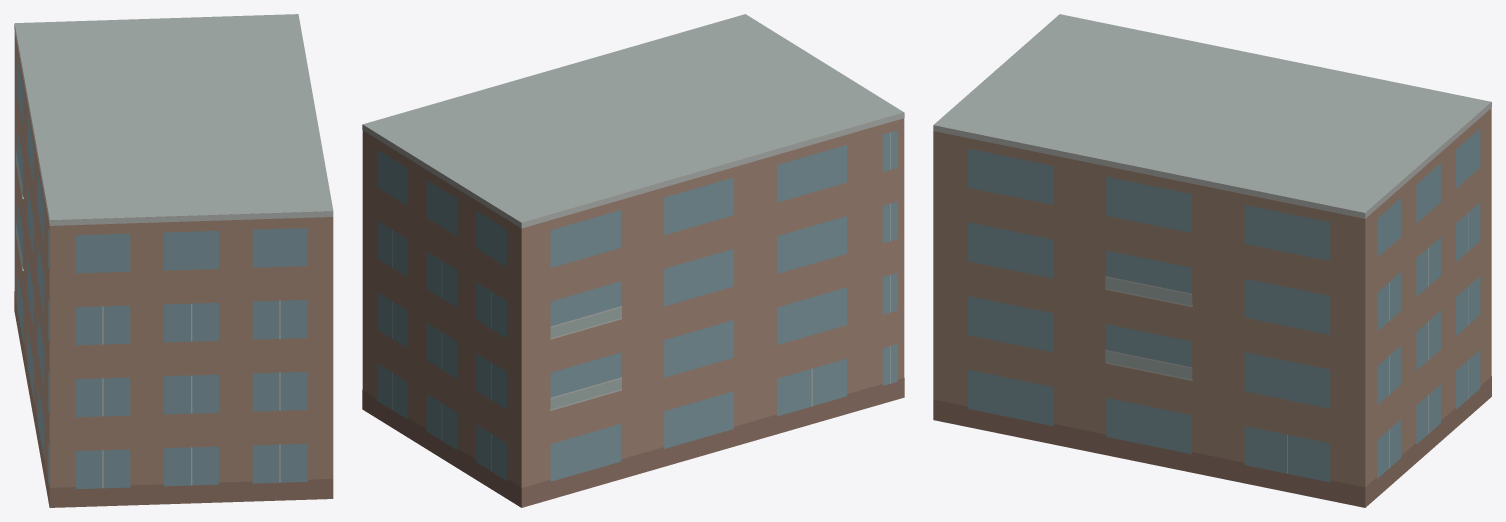
The model's file is residential-2529764b-9340-4005-b697-74aeb0b146a9.glb.
3 views of the same model, side by side, from view 1: azimuth 30°, elevation 25°; view 2: azimuth 150°, elevation 25°; view 3: azimuth 270°, elevation 25° (orthographic). The views are drawn at different scales.
Visible parts, largest first — view 1: residential-2529764b-9340-4005-b697-74aeb0b146a9.tmp; view 2: residential-2529764b-9340-4005-b697-74aeb0b146a9.tmp; view 3: residential-2529764b-9340-4005-b697-74aeb0b146a9.tmp.
Part boxes in pixels (<box>): residential-2529764b-9340-4005-b697-74aeb0b146a9.tmp: <box>14,14,333,507</box>; residential-2529764b-9340-4005-b697-74aeb0b146a9.tmp: <box>362,14,904,507</box>; residential-2529764b-9340-4005-b697-74aeb0b146a9.tmp: <box>933,14,1491,507</box>.
Size of the model in its own units: 17.67 by 12.2 by 20.95.
